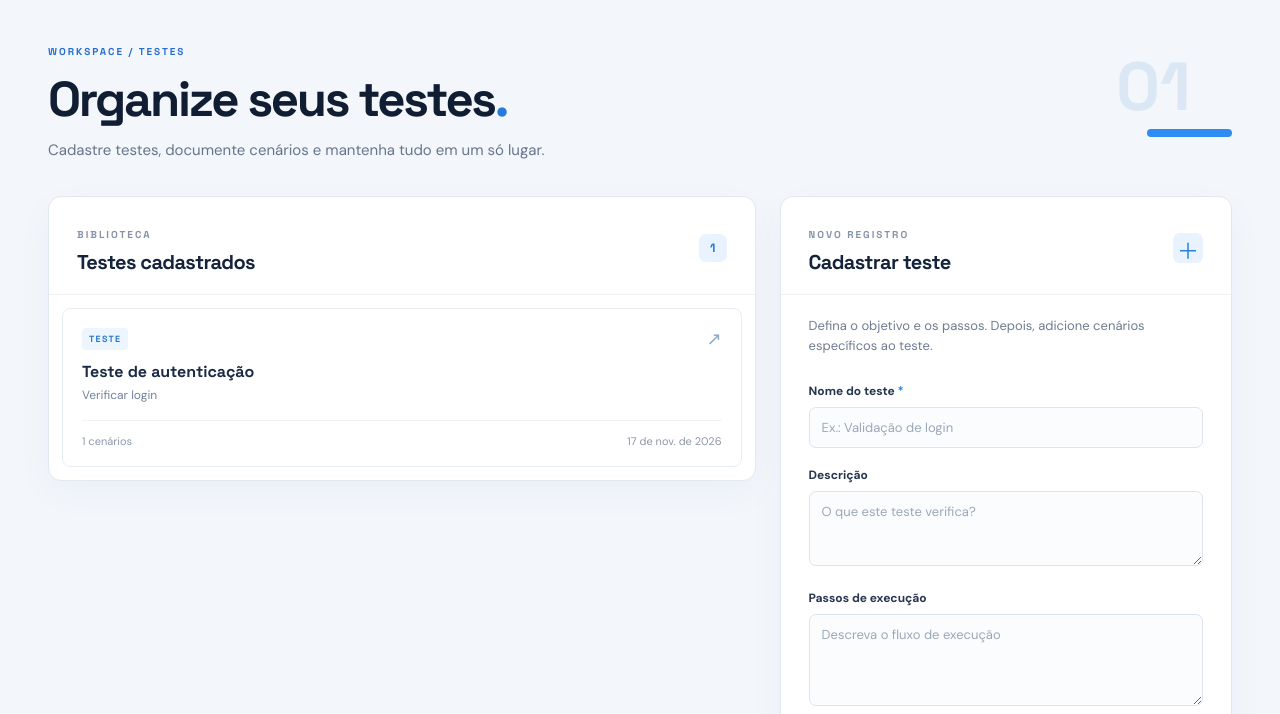
it: TES-55/56/61/62: execução manual e histórico › informa quando não há histórico
What coordinates should you click on to do the following:
click the button "Teste de autenticação"
I would click on:
 (105, 339)
Its box is [62,308,742,467].
(page scrolled)
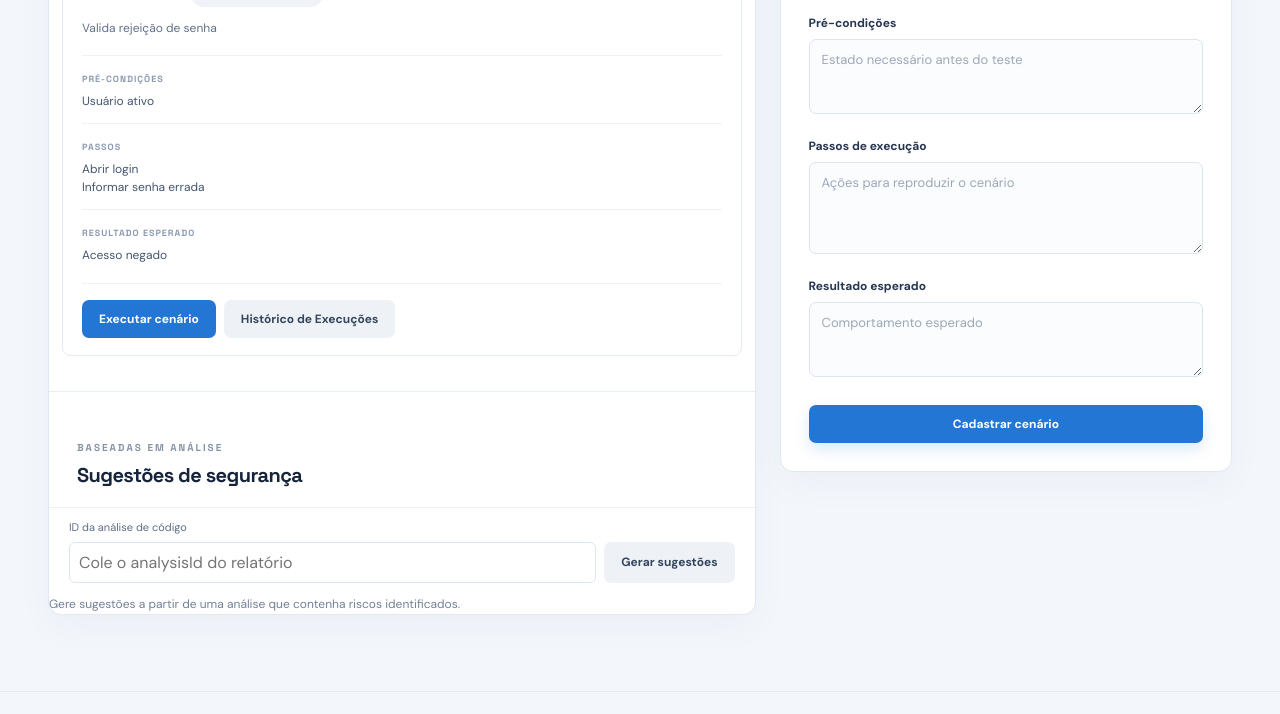
What coordinates should you click on to do the following:
click the button "Histórico de Execuções"
I would click on:
 (310, 319)
Its box is [224,300,396,338].
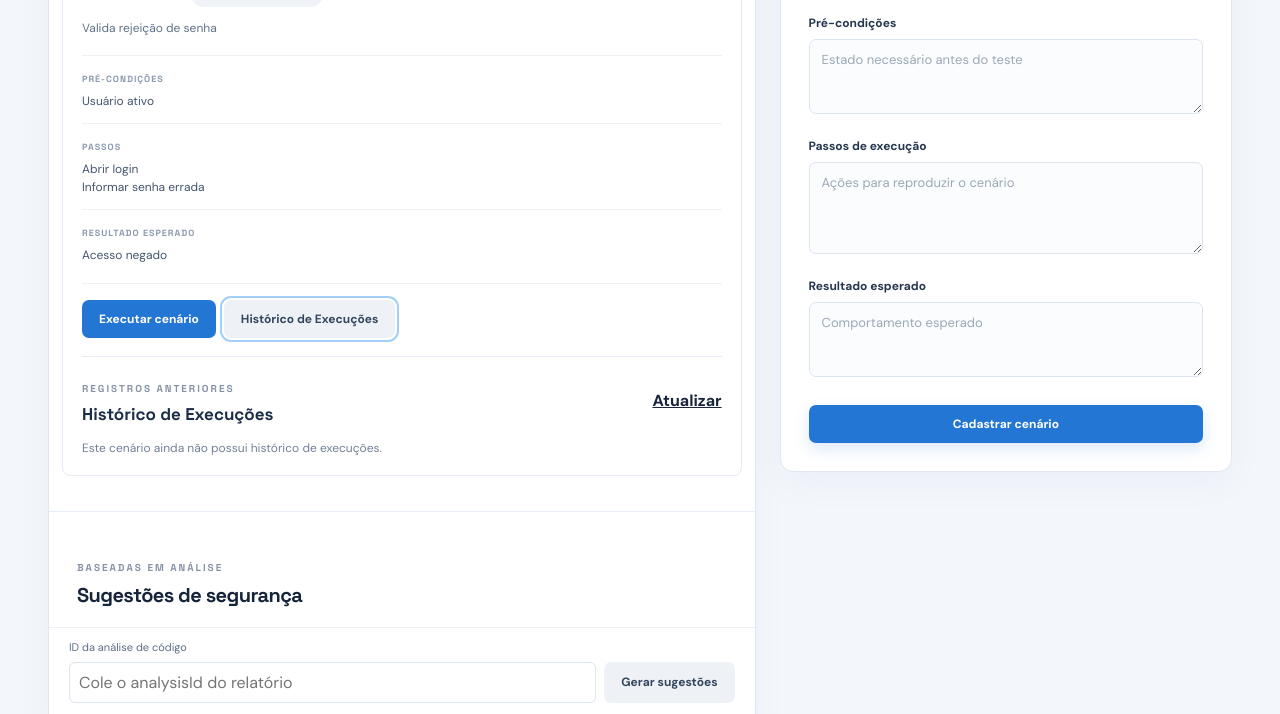
Expected: the text "Este cenário ainda não possui histórico de execuções." is shown, [82,440,382,456]
